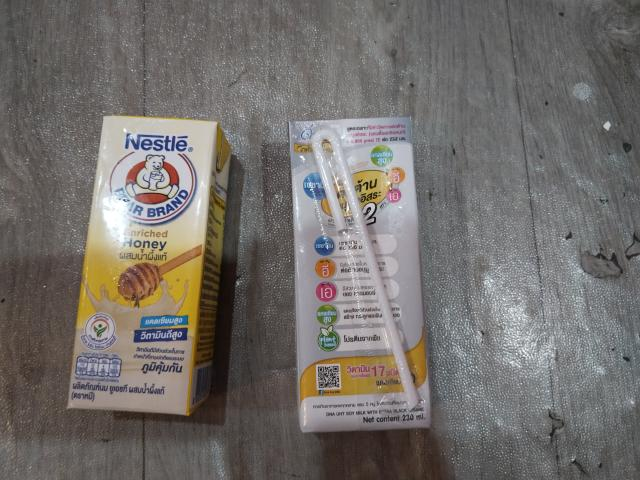drink_box: (51, 104, 242, 428), (282, 111, 444, 440)
